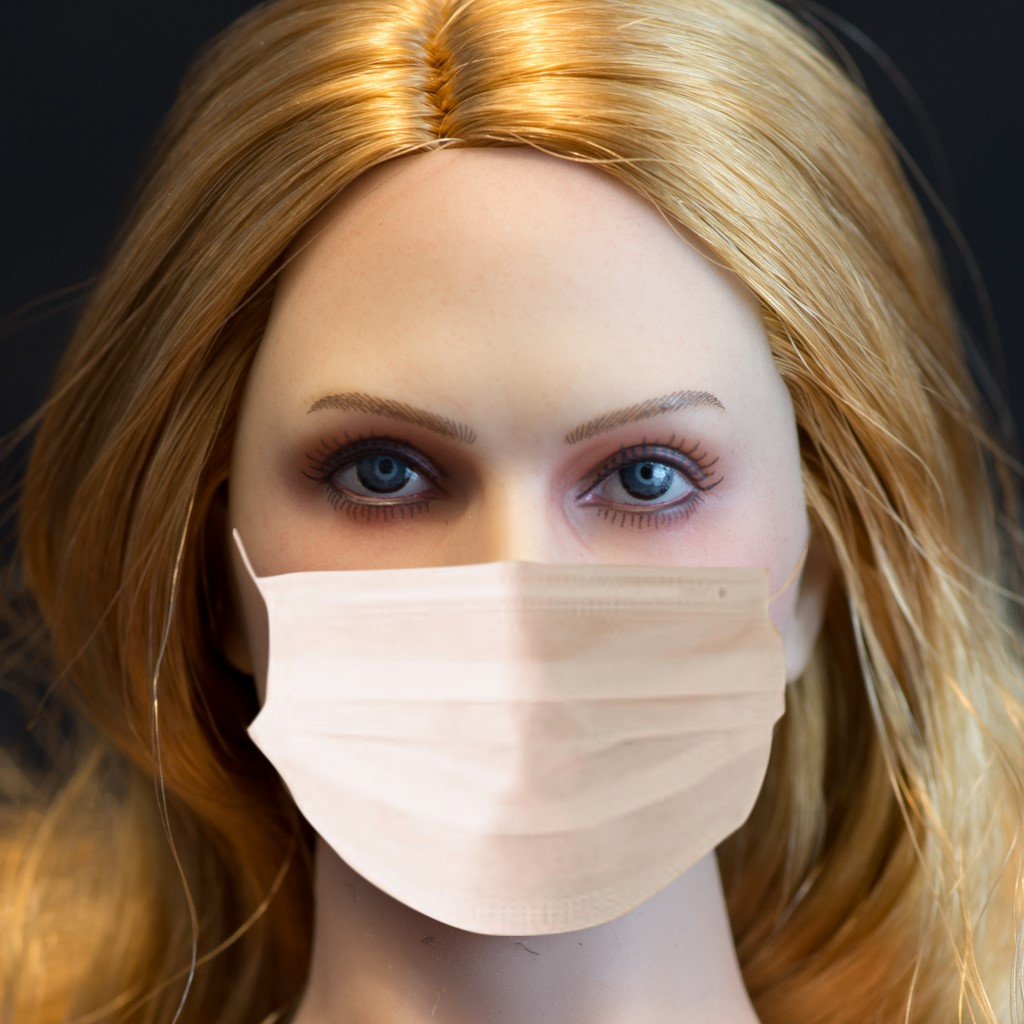con_mascara: (211, 177, 824, 957)
